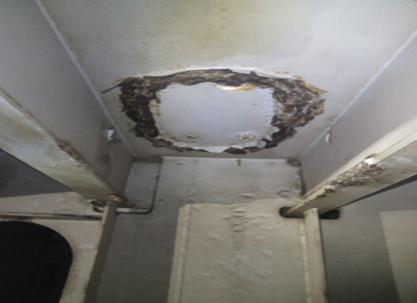corrosion: (152, 52, 291, 92), (261, 62, 326, 144), (111, 66, 160, 151), (160, 133, 285, 158), (333, 155, 394, 189), (49, 133, 92, 173), (282, 148, 310, 191)
